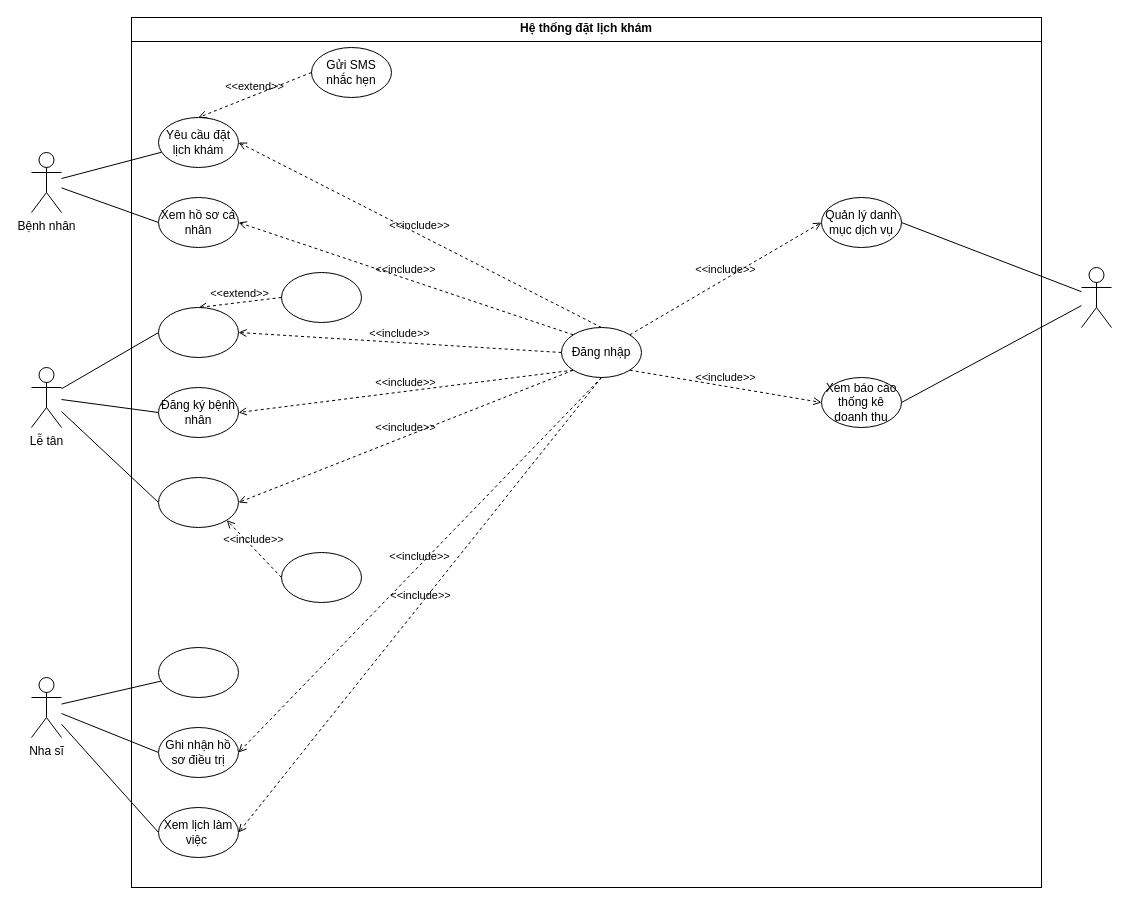
The diagram is 1136 pixels wide and 905 high, and some of its shapes have lost their labels. Each missing label, with the box of its shape:
Hủy lịch khám: (280, 272, 362, 322)
Khám bệnh: (158, 646, 238, 698)
Quản lý: (1080, 266, 1112, 328)
Quản lý lịch hẹn: (158, 306, 238, 358)
Thanh toán: (158, 476, 238, 528)
Tạo hóa đơn: (280, 552, 362, 602)
